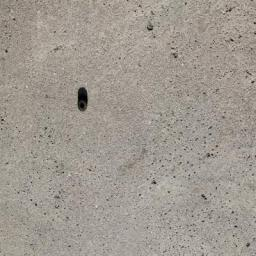FOD: (75, 86, 93, 116)
